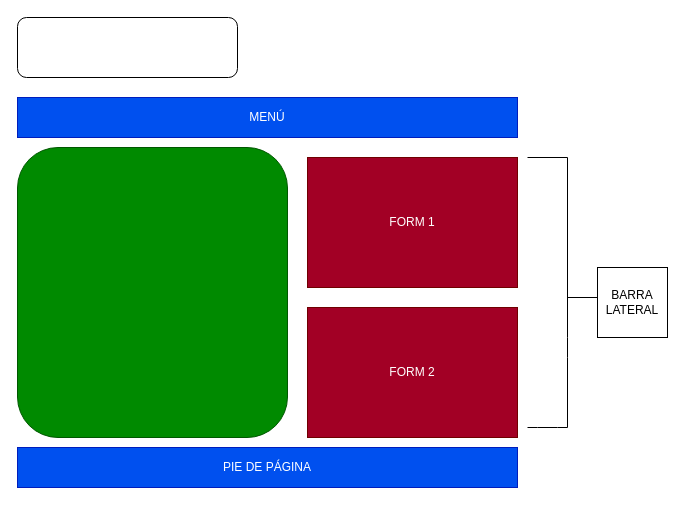
The diagram is 685 pixels wide and 505 high, and some of its shapes have lost their labels. Here are the shapes that lost their labels. From the top down, the box of each, then its label:
(16, 16, 238, 78): LOGO
(16, 146, 288, 438): DIV PRINCIPAL
